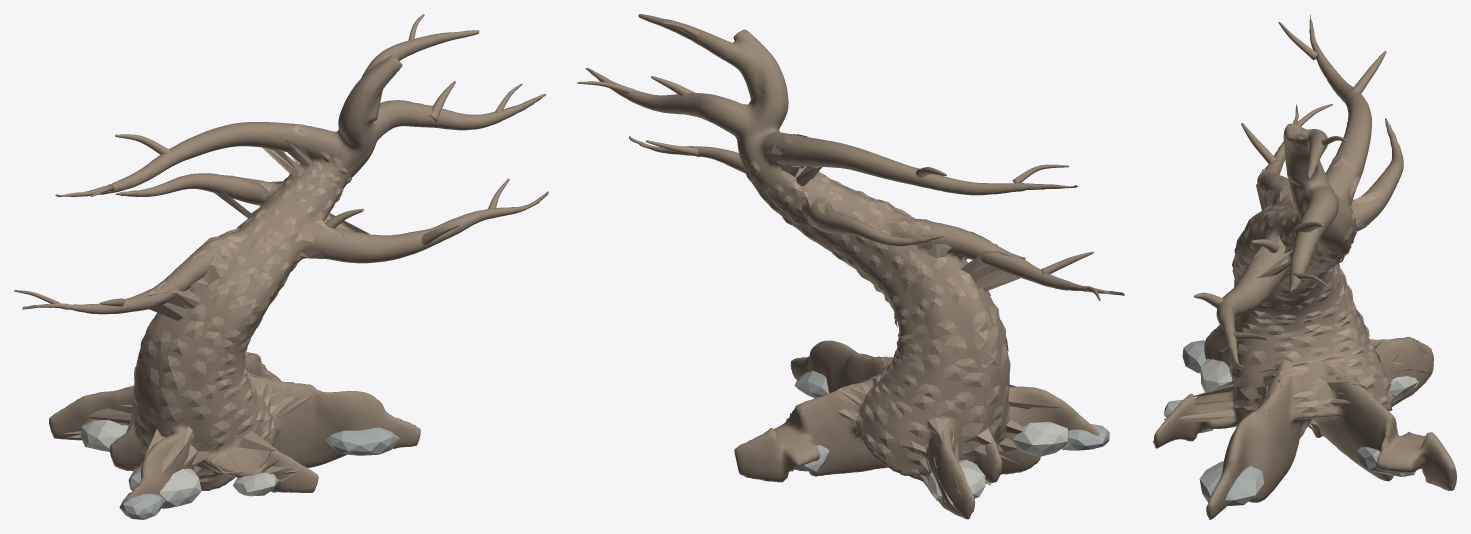
Rendered from pine005-h26-hero.glb.
The picture shows the model from 3 angles, left to right: view 1: azimuth 30°, elevation 25°; view 2: azimuth 150°, elevation 25°; view 3: azimuth 270°, elevation 25°; orthographic projection. The views are drawn at different scales.
Parts seen in each view (by area): view 1: H26 ONE_CONTINUOUS_AGED_WOOD_MAIN_ROOTS_BRANCHES, H26 IRREGULAR BARK SHARDS no flute repetition, H26 irregular root-contact granite 2, H26 irregular root-contact granite 1, H26 irregular root-contact granite 3, H26 irregular root-contact granite 6, H26 irregular root-contact granite 5; view 2: H26 ONE_CONTINUOUS_AGED_WOOD_MAIN_ROOTS_BRANCHES, H26 IRREGULAR BARK SHARDS no flute repetition, H26 irregular root-contact granite 1, H26 irregular root-contact granite 6, H26 irregular root-contact granite 3, H26 irregular root-contact granite 2; view 3: H26 ONE_CONTINUOUS_AGED_WOOD_MAIN_ROOTS_BRANCHES, H26 IRREGULAR BARK SHARDS no flute repetition, H26 irregular root-contact granite 2, H26 irregular root-contact granite 1, H26 irregular root-contact granite 6, H26 irregular root-contact granite 4, H26 irregular root-contact granite 3, H26 NATURAL OFFSHOOT 3, H26 NATURAL OFFSHOOT 1.
Part boxes in pixels (<box>): H26 ONE_CONTINUOUS_AGED_WOOD_MAIN_ROOTS_BRANCHES: <box>22,30,548,508</box>; H26 IRREGULAR BARK SHARDS no flute repetition: <box>64,123,369,508</box>; H26 irregular root-contact granite 2: <box>325,427,399,455</box>; H26 irregular root-contact granite 1: <box>128,468,201,506</box>; H26 irregular root-contact granite 3: <box>80,420,128,451</box>; H26 irregular root-contact granite 6: <box>119,492,165,519</box>; H26 irregular root-contact granite 5: <box>233,472,278,496</box>; H26 ONE_CONTINUOUS_AGED_WOOD_MAIN_ROOTS_BRANCHES: <box>585,14,1124,519</box>; H26 IRREGULAR BARK SHARDS no flute repetition: <box>745,134,1067,519</box>; H26 irregular root-contact granite 1: <box>1013,421,1068,456</box>; H26 irregular root-contact granite 6: <box>1061,424,1109,450</box>; H26 irregular root-contact granite 3: <box>928,459,985,499</box>; H26 irregular root-contact granite 2: <box>794,371,828,398</box>; H26 ONE_CONTINUOUS_AGED_WOOD_MAIN_ROOTS_BRANCHES: <box>1153,14,1456,519</box>; H26 IRREGULAR BARK SHARDS no flute repetition: <box>1163,155,1430,422</box>; H26 irregular root-contact granite 2: <box>1199,461,1264,506</box>; H26 irregular root-contact granite 1: <box>1200,359,1232,392</box>; H26 irregular root-contact granite 6: <box>1182,340,1205,373</box>; H26 irregular root-contact granite 4: <box>1357,447,1415,476</box>; H26 irregular root-contact granite 3: <box>1389,376,1417,397</box>; H26 NATURAL OFFSHOOT 3: <box>1351,51,1386,93</box>; H26 NATURAL OFFSHOOT 1: <box>1241,123,1277,163</box>.
Size of the model in its own units: 11.99 by 8.67 by 5.38.
